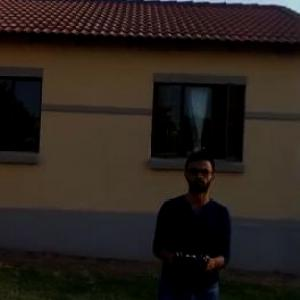follow: (146, 146, 238, 299)
